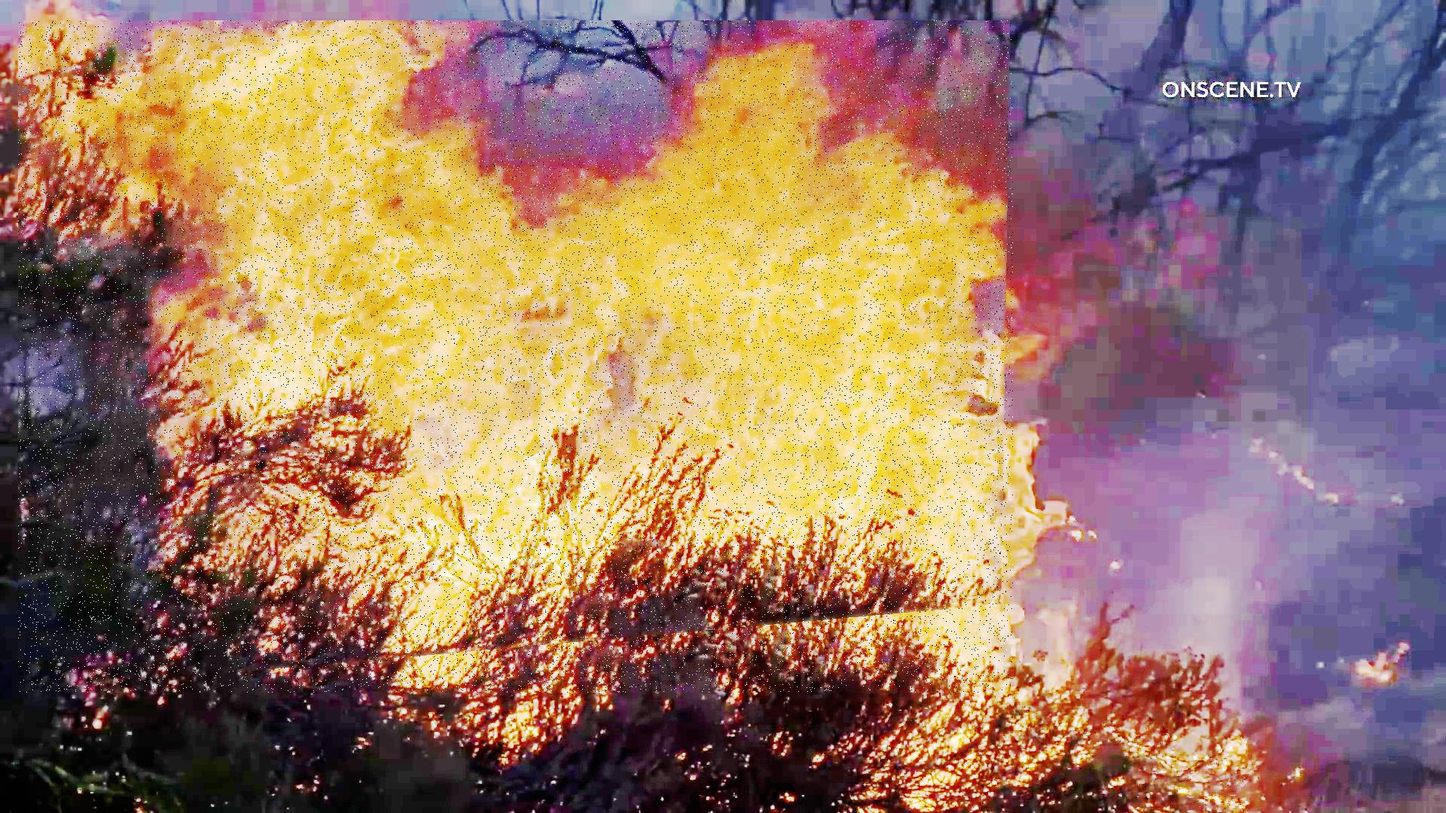fire: (19, 20, 1014, 693)
